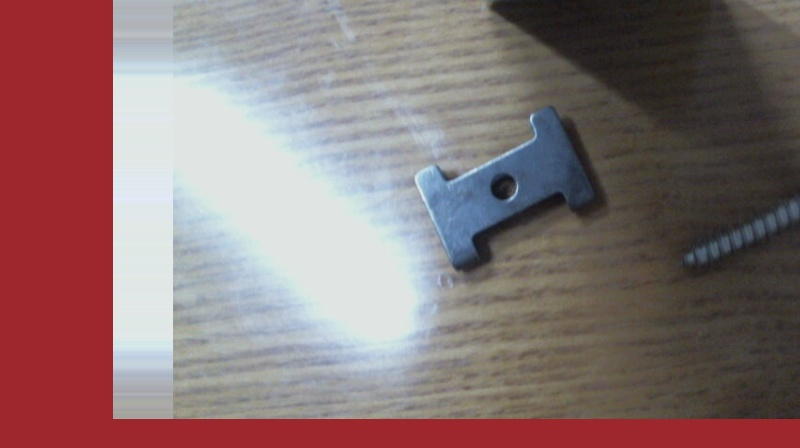O002: (406, 102, 598, 272)
S001: (674, 159, 799, 271)
